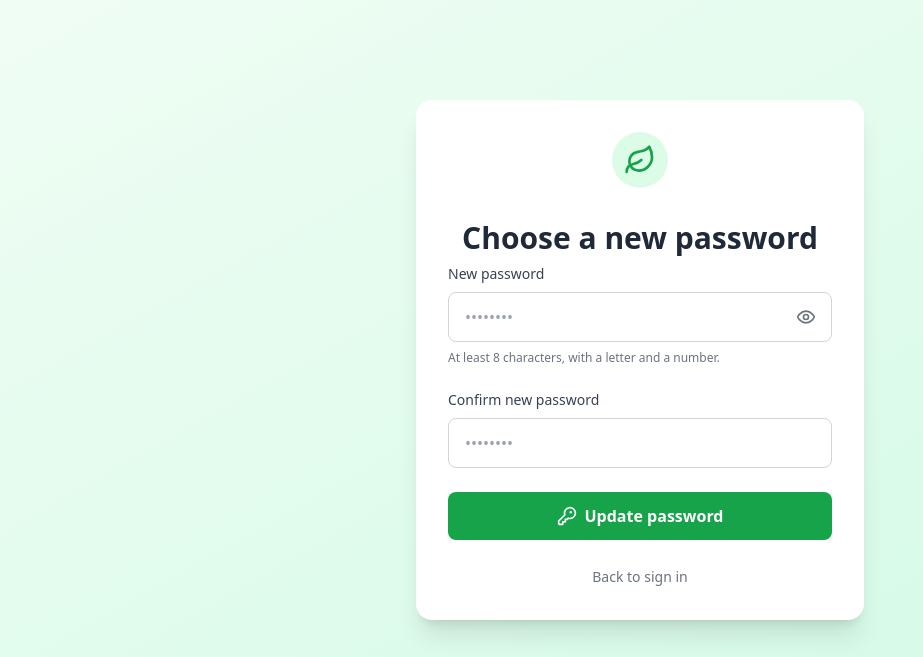
Test: ResetPassword › a successful reset shows the success state, not the form
Step 1. Type "MatchingPassw0rd" into the password field with id "reset-password" → (640,317), box [448,292,832,342]
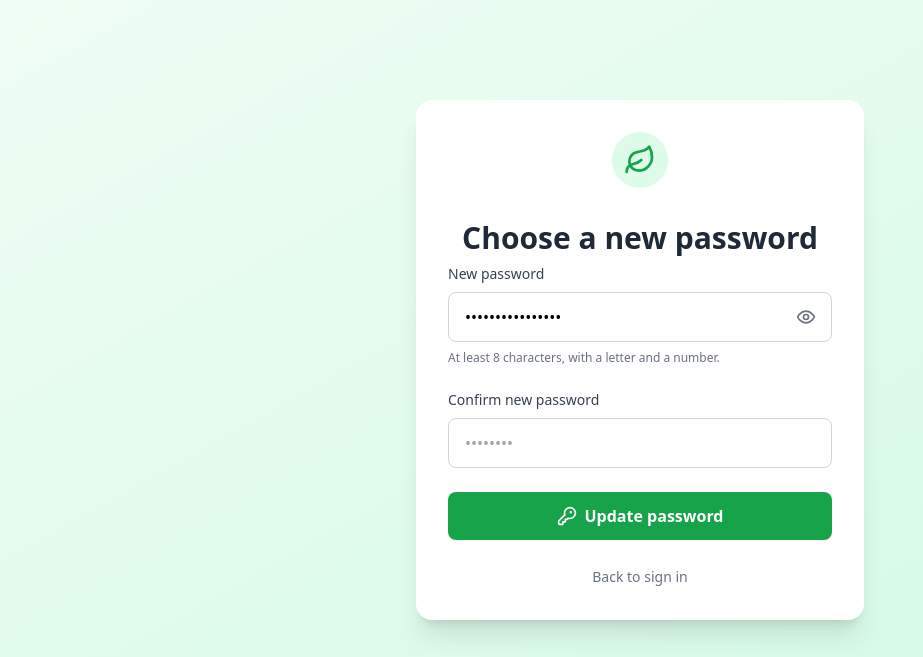
Step 2. Type "MatchingPassw0rd" into the password field with id "reset-confirm-password" → (640,443), box [448,418,832,468]
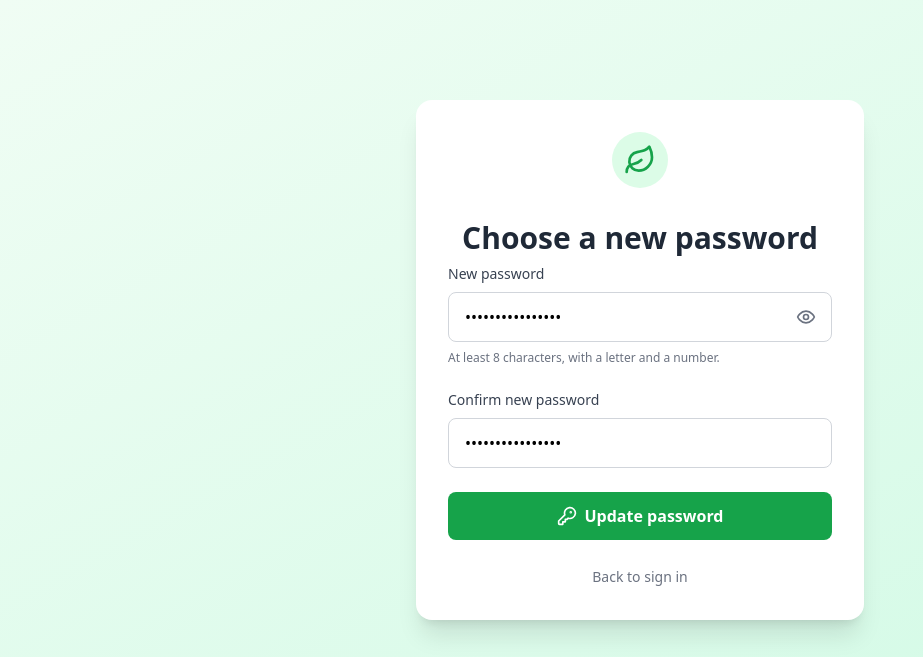
Step 3. Submit the form named "Update password", box [448,264,832,588]
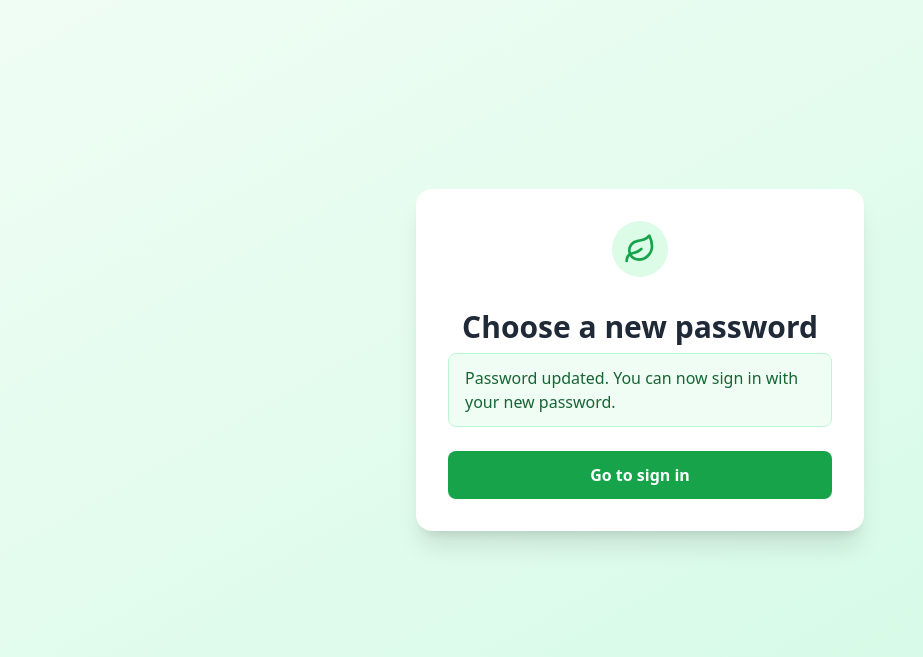
Expected: the button "Go to sign in" is shown, [448,451,832,499]
